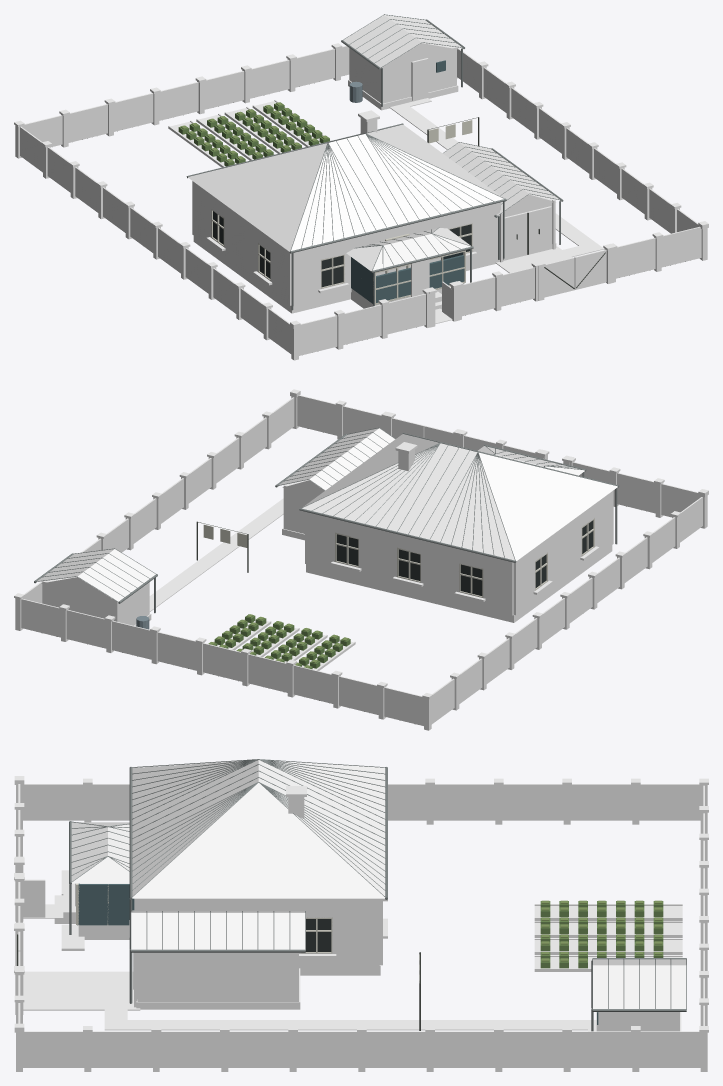
The picture shows the model from 3 angles, top to bottom: view 1: azimuth 30°, elevation 25°; view 2: azimuth 150°, elevation 25°; view 3: azimuth 270°, elevation 25°; orthographic projection. The views are drawn at different scales.
Parts seen in each view (by area): view 1: ParcelGeometry.005, SummerPlanting.005; view 2: ParcelGeometry.005, SummerPlanting.005; view 3: ParcelGeometry.005, SummerPlanting.005.
Part boxes in pixels (<box>): ParcelGeometry.005: <box>14,14,708,360</box>; SummerPlanting.005: <box>178,102,472,166</box>; ParcelGeometry.005: <box>14,389,708,730</box>; SummerPlanting.005: <box>203,524,350,669</box>; ParcelGeometry.005: <box>14,759,708,1071</box>; SummerPlanting.005: <box>419,900,663,982</box>.
Size of the model in its own units: 22.13 by 5.96 by 25.84.
